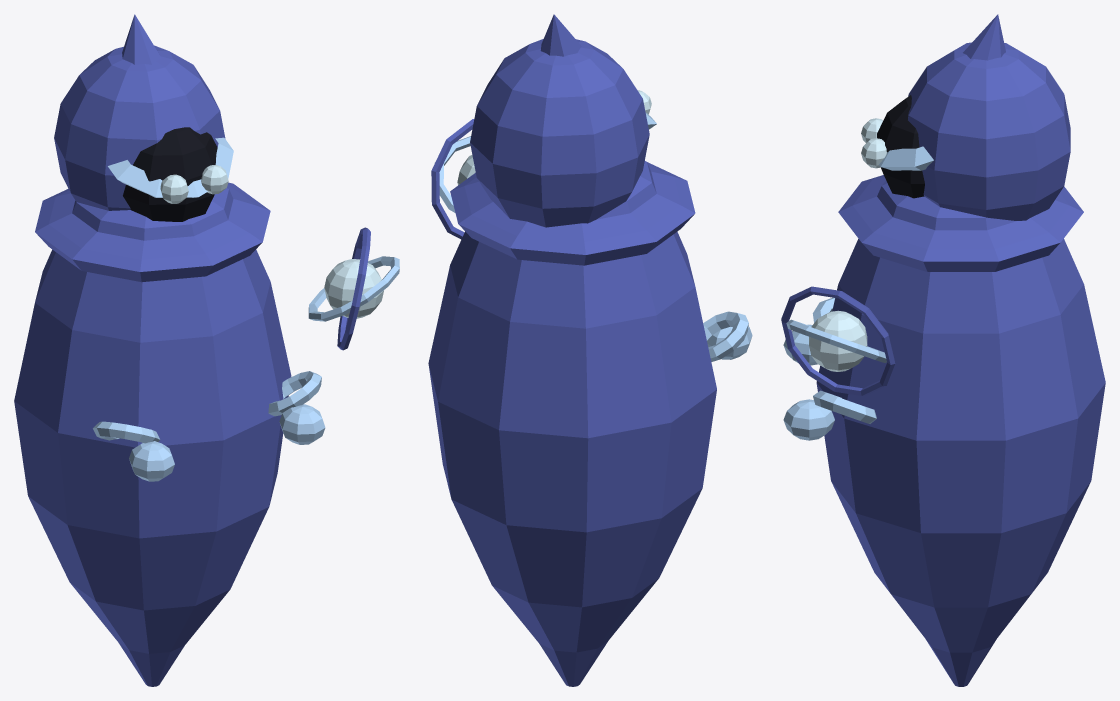
The model's file is abyss_mage_body.obj.
3 views of the same model, side by side, from view 1: azimuth 30°, elevation 25°; view 2: azimuth 150°, elevation 25°; view 3: azimuth 270°, elevation 25° (orthographic). The views are drawn at different scales.
Visible parts, largest first — view 1: robe, hood, mantle, face_void, orb_core, hood_brim, orb_ring_b, orb_ring, hand_L, hand_R, cuff_R, hood_peak (+3 smaller); view 2: robe, hood, mantle, cuff_L, orb_ring_b, hood_peak, orb_ring, hand_L; view 3: robe, hood, mantle, orb_ring_b, face_void, orb_core, hand_R, hood_peak, orb_ring, hood_brim, cuff_R, eye_R (+1 smaller).
Boxes of the visible parts, x1,y1,x2,y2 form: robe: (14,187,291,686); hood: (54,45,225,210); mantle: (35,182,270,282); face_void: (123,127,217,221); orb_core: (324,259,383,318); hood_brim: (108,137,233,197); orb_ring_b: (337,227,370,350); orb_ring: (308,256,399,321); hand_L: (129,441,174,481); hand_R: (279,404,325,444); cuff_R: (268,371,321,416); hood_peak: (122,14,161,64); robe: (428,161,716,686); hood: (470,39,649,227); mantle: (450,162,695,265); cuff_L: (703,311,748,361); orb_ring_b: (431,119,474,239); hood_peak: (540,14,581,56); orb_ring: (434,136,470,212); hand_L: (707,326,752,359); robe: (816,180,1105,686); hood: (908,42,1070,220); mantle: (838,175,1083,271); orb_ring_b: (781,286,895,396); face_void: (877,95,924,198); orb_core: (809,310,867,371); hand_R: (783,399,834,440); hood_peak: (963,14,1005,60); orb_ring: (786,319,886,362); hood_brim: (879,146,933,170); cuff_R: (813,390,876,423); eye_R: (861,138,886,168).
Size of the model in its own units: 0.8922 by 1.86 by 0.8184.
